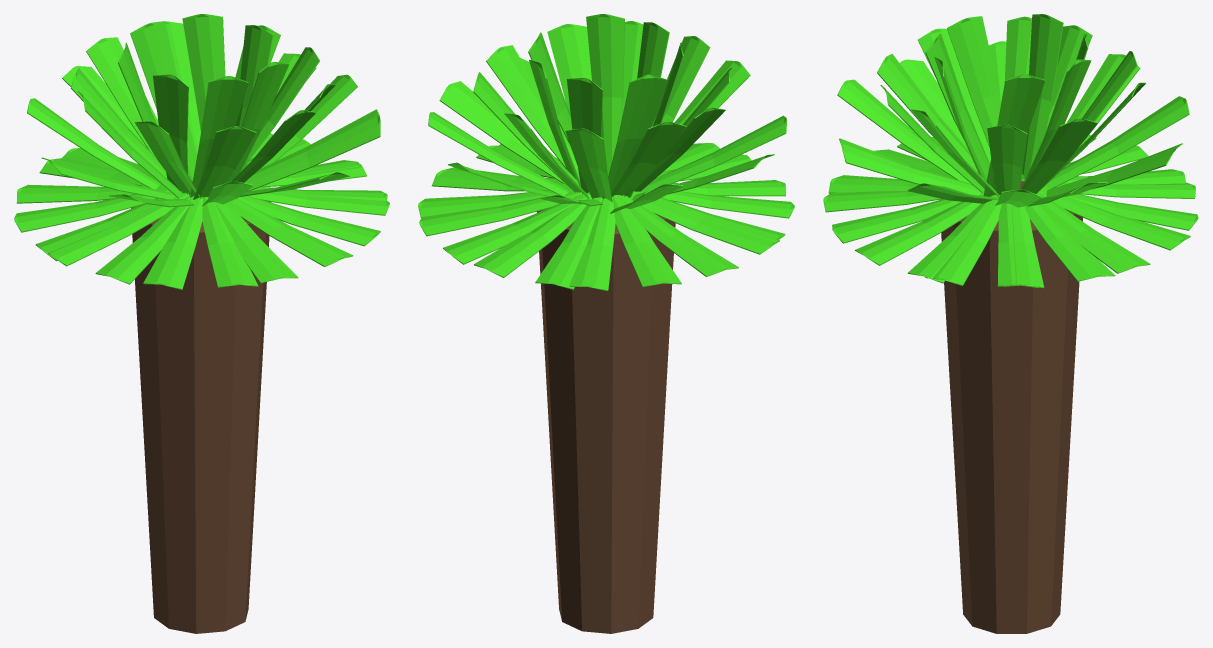
File: Frailejon-low-poly.fbx
The picture shows the model from 3 angles, left to right: view 1: azimuth 30°, elevation 25°; view 2: azimuth 150°, elevation 25°; view 3: azimuth 270°, elevation 25°; orthographic projection.
Parts seen in each view (by area): view 1: Hojas_inf; view 2: Hojas_inf; view 3: Hojas_inf.
Part boxes in pixels (<box>): Hojas_inf: <box>14,14,389,633</box>; Hojas_inf: <box>418,14,794,633</box>; Hojas_inf: <box>823,14,1198,633</box>.
Size of the model in its own units: 7.47 by 12.4 by 7.38.
